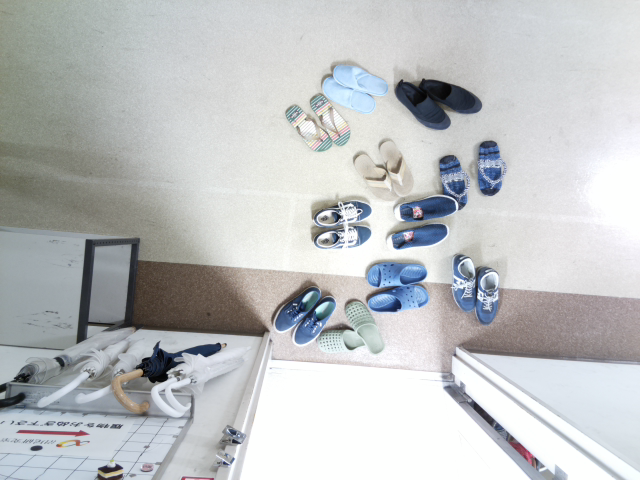Copy of Copy of Copy of Copy of Copy of Copy of Copy of Copy of Copy of Copy of: (266, 278, 327, 339), (345, 144, 403, 206), (337, 292, 388, 360), (286, 291, 341, 352), (371, 134, 417, 200), (305, 219, 378, 258), (306, 190, 379, 228), (363, 280, 438, 316), (390, 191, 465, 225), (360, 256, 435, 289), (310, 321, 378, 357), (382, 218, 456, 251)
Copy of Copy of Copy of Copy of Copy of Copy of Copy of Copy of Copy of shoe: (447, 251, 482, 320)
Copy of Copy of Copy of Copy of Copy of Copy of Copy of Copy of shoe: (472, 259, 508, 328)
Copy of Copy of Copy of Copy of Copy of Copy of Copy of shoe: (434, 149, 472, 215)
Copy of Copy of Copy of Copy of Copy of Copy of shoe: (470, 133, 509, 199)
Copy of Copy of Copy of Copy of Copy of shoe: (413, 74, 489, 117)
Copy of Copy of Copy of Copy of Copy of umbrella: (1, 321, 142, 411)
Copy of Copy of Copy of Copy of shoe: (391, 72, 455, 136)
Copy of Copy of Copy of Copy of umbrella: (31, 326, 150, 413)
Copy of Copy of Copy of shoe: (327, 58, 391, 103)
Copy of Copy of Copy of umbrella: (68, 320, 162, 413)
Copy of Copy of shoe: (316, 72, 379, 117)
Copy of Copy of umbrella: (105, 338, 229, 420)
Copy of shoe: (303, 88, 350, 147)
Copy of umbrella: (161, 346, 255, 426)
shoe: (282, 100, 334, 156)
umbrella: (146, 333, 252, 426)
